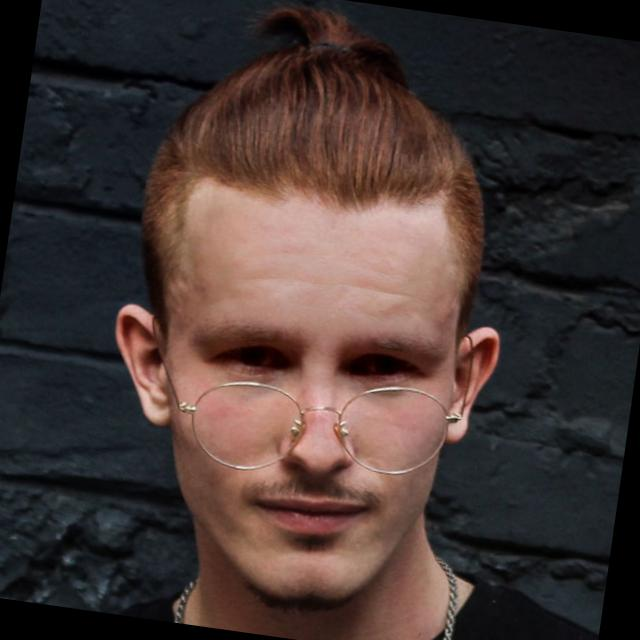face: (62, 165, 585, 640)
